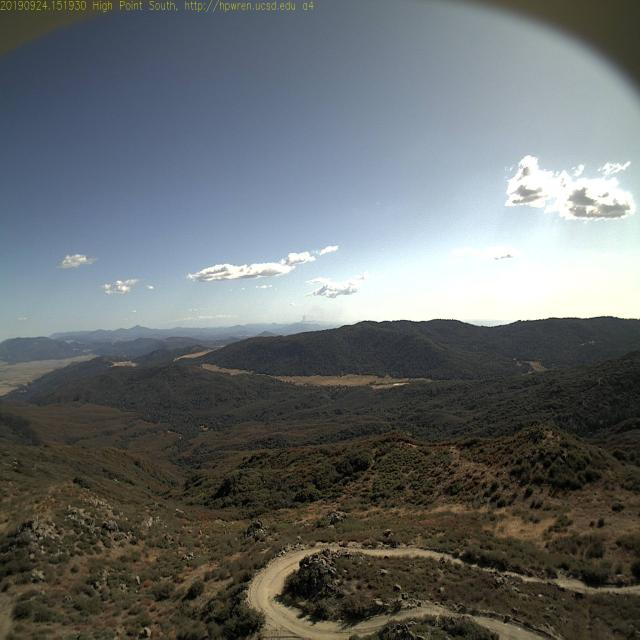smoke: (297, 306, 319, 324)
